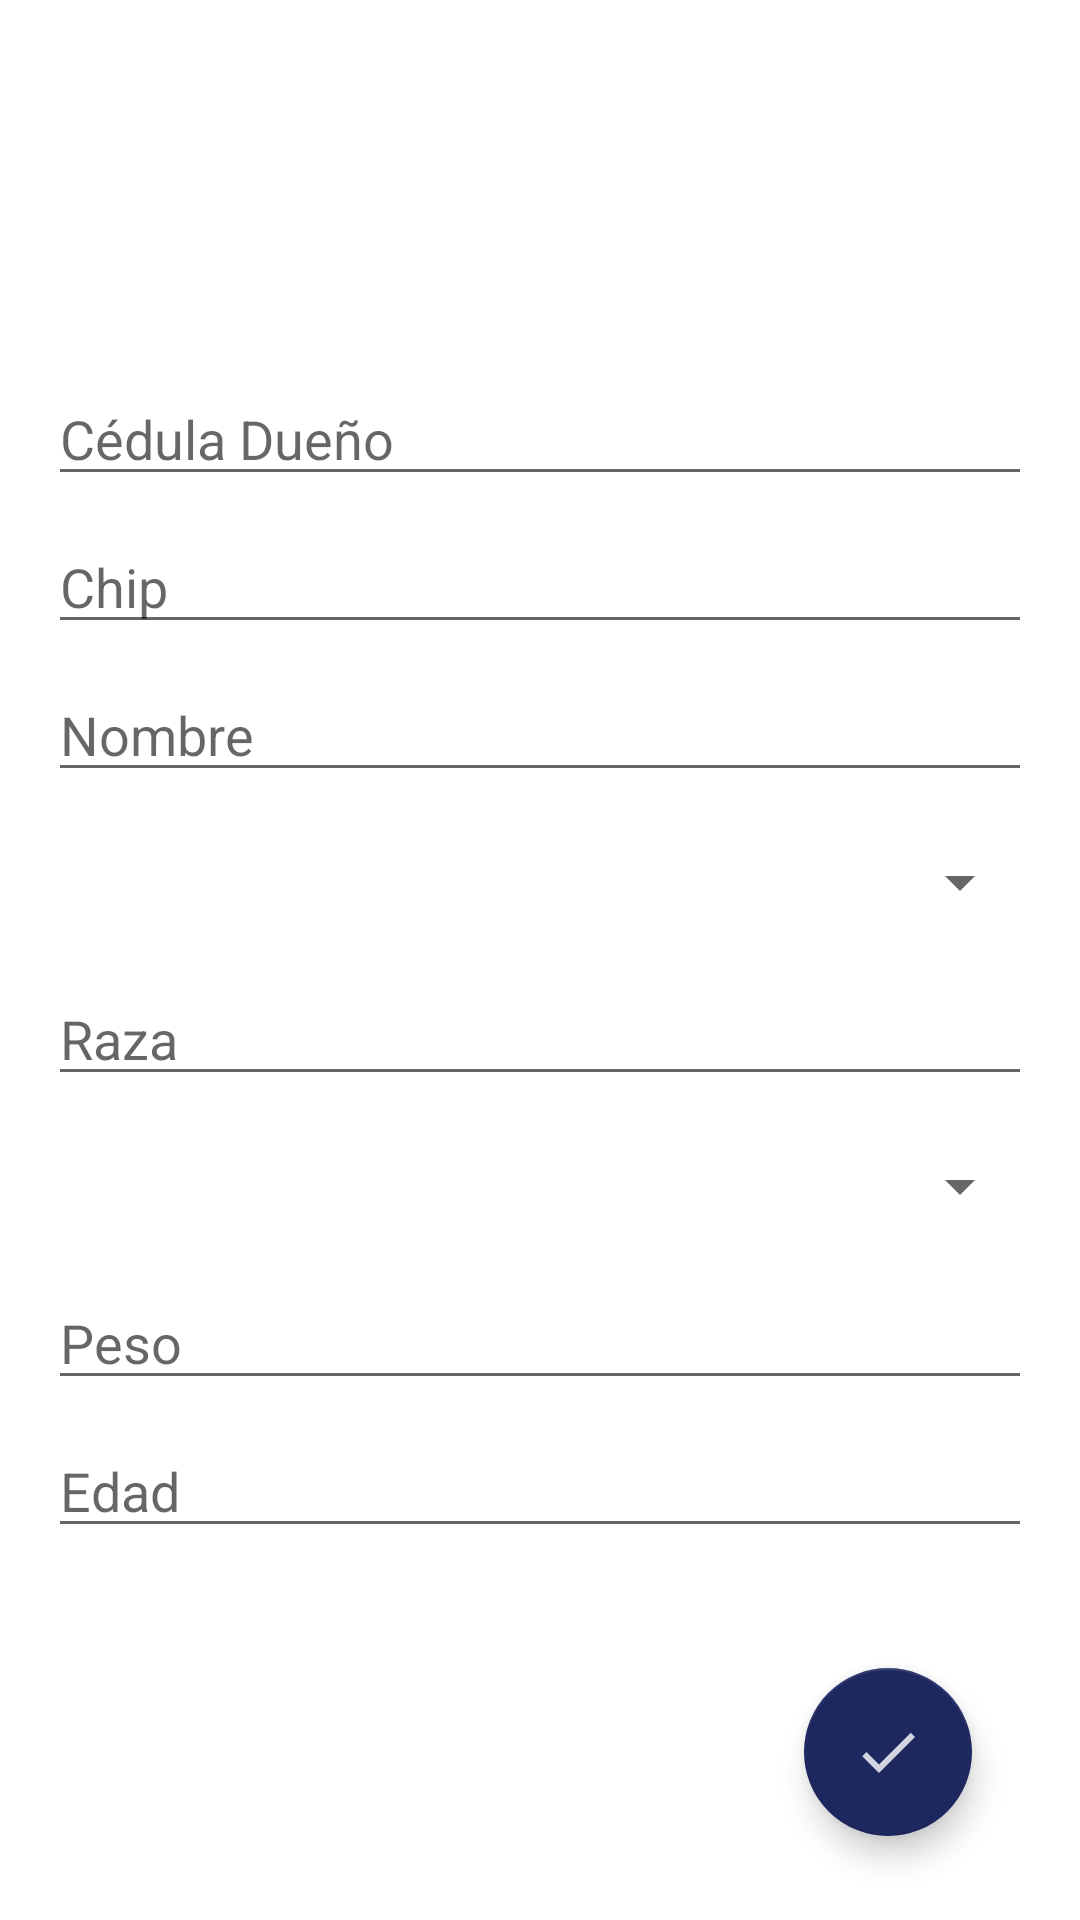

Screen size 1080x1920. Icon name, then its center in pixels as (x=x, y=y):
check: (x=888, y=1752)
